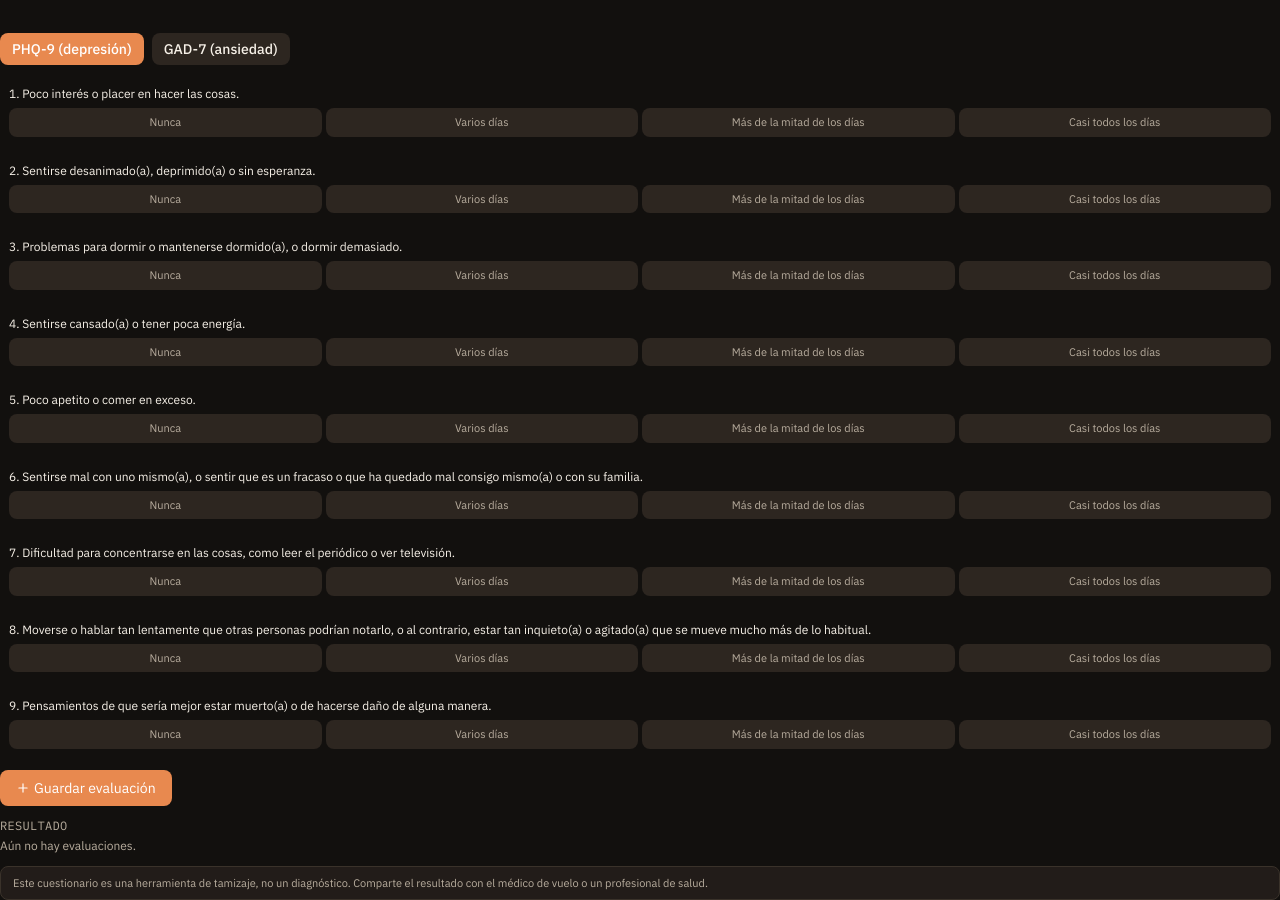
Test case: FormularioMental › bloquea el envío si falta alguna respuesta del PHQ-9
(page scrolled)
Click the button "Guardar evaluación": (86, 788) [0, 770, 172, 806]
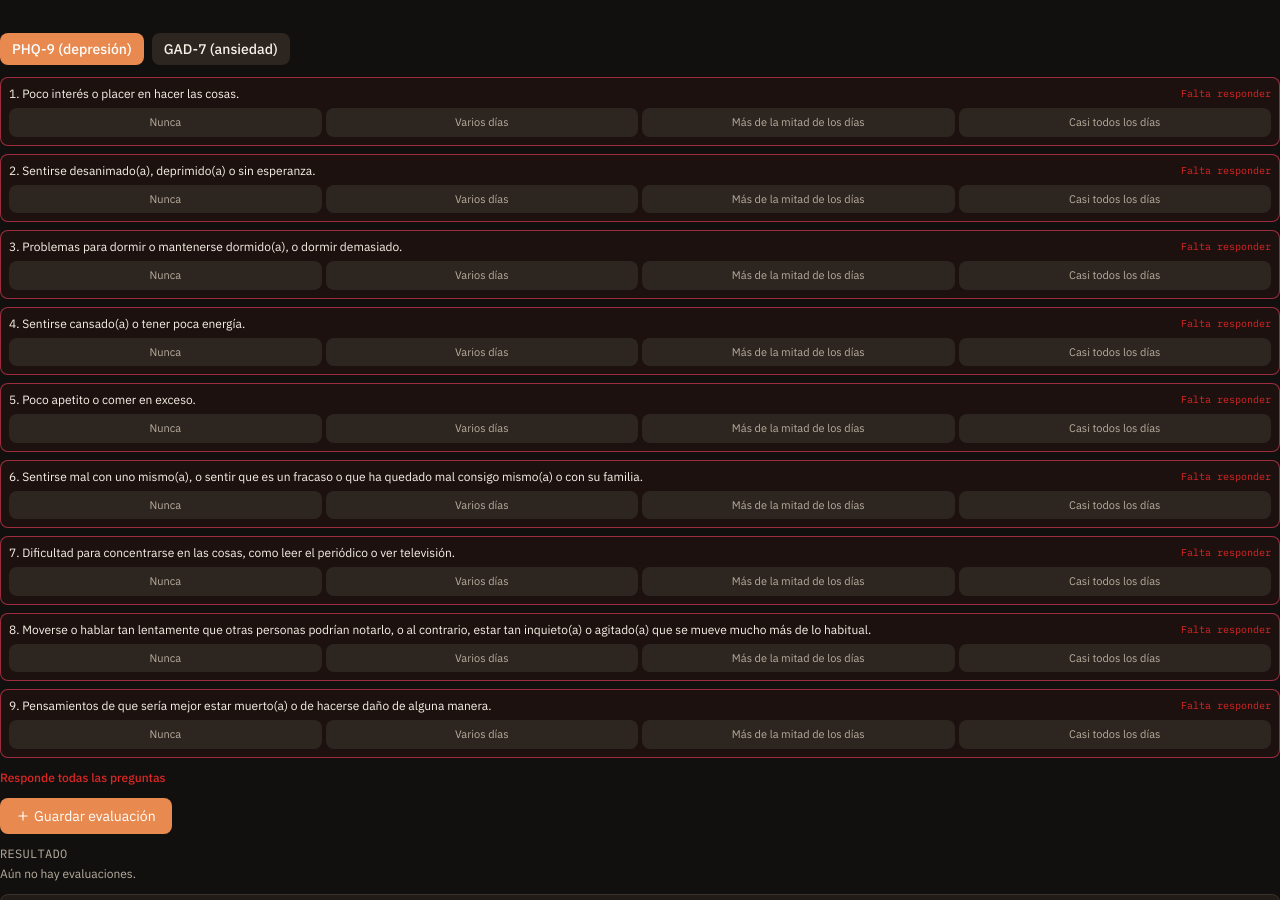
expect the text "Responde todas las preguntas" is shown: met, box [0, 770, 166, 784]
